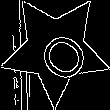O_NW: (23, 17, 88, 82)
